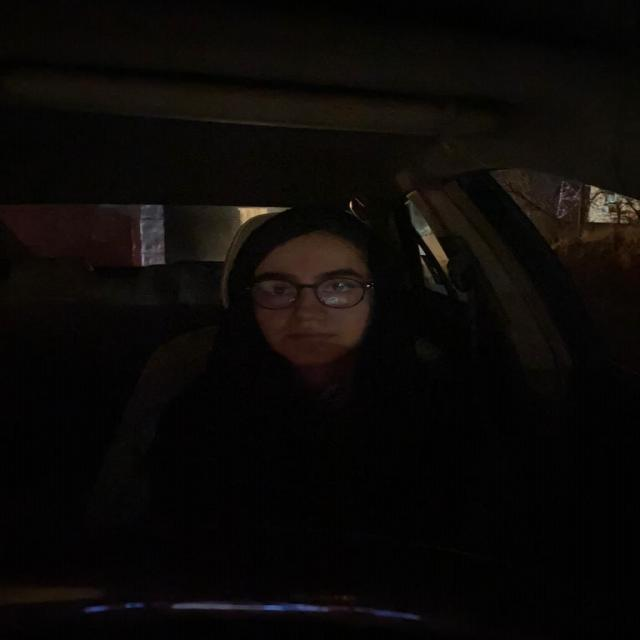person: (216, 194, 414, 381)
